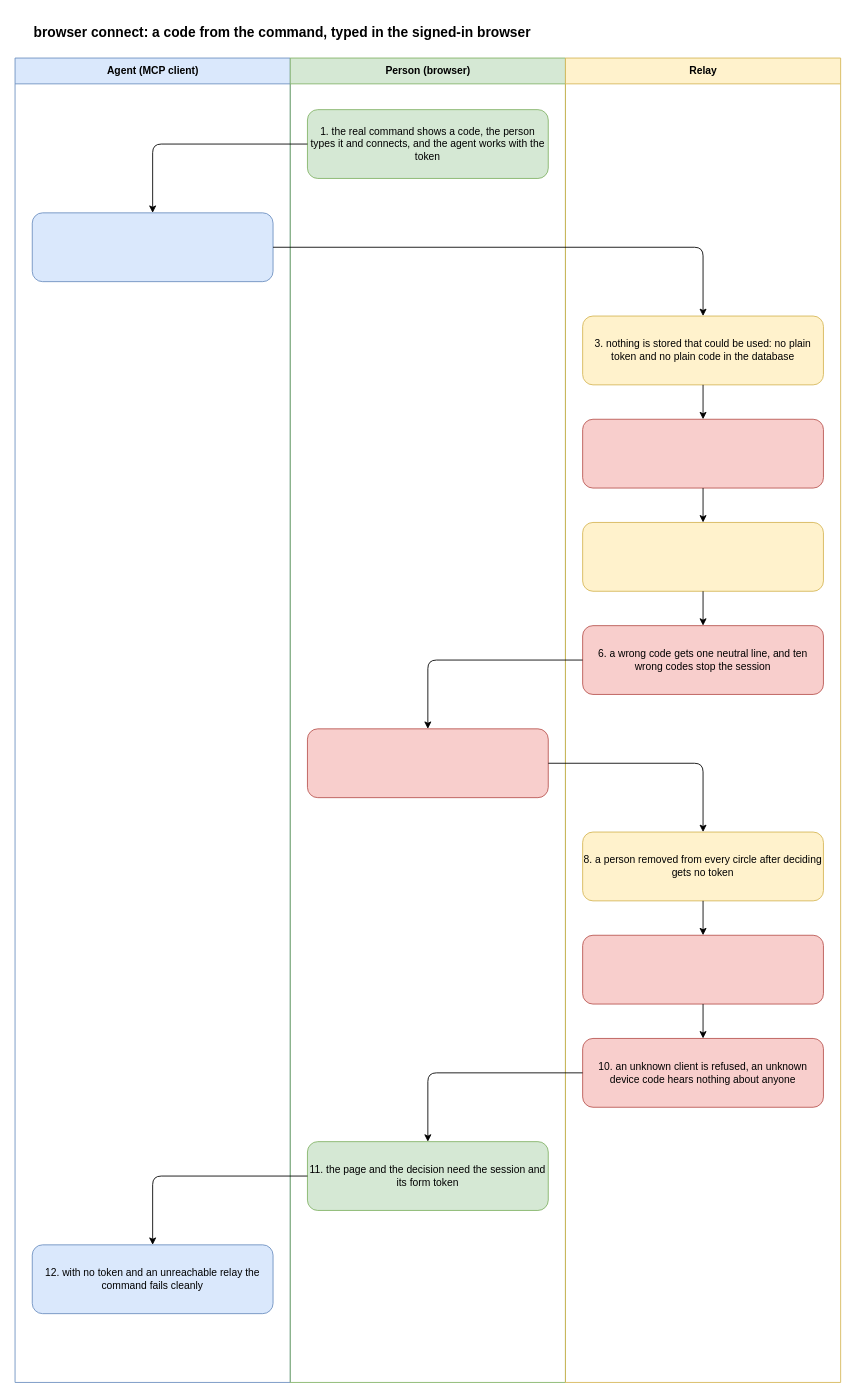
Image size: 856x1398. Some labels were removed from this diagram. The centre of each missing label's shape, as x and y in pixels:
"2. the token comes out once; a second poll gets nothing" goes at (152,247).
"4. the link carries no code and connects nothing: a GET never decides" goes at (702,453).
"5. Decline connects nothing, and the command hears it" goes at (702,556).
"7. someone in no circle cannot connect: no page, no decision" goes at (427,763).
"9. another site cannot start or collect: a request with an Origin is refused" goes at (702,969).
